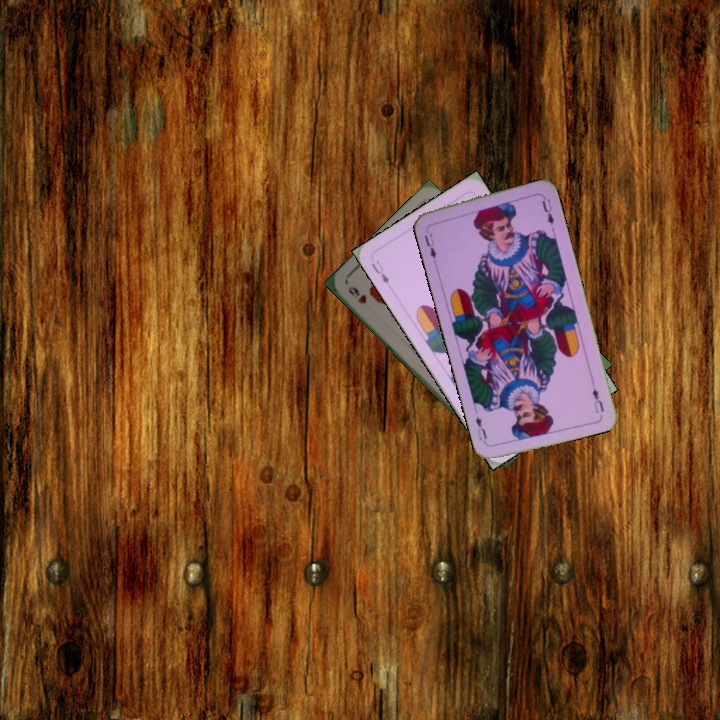EU: (367, 256, 392, 287), (588, 384, 607, 415), (421, 229, 439, 261)
H9: (344, 282, 369, 306)
